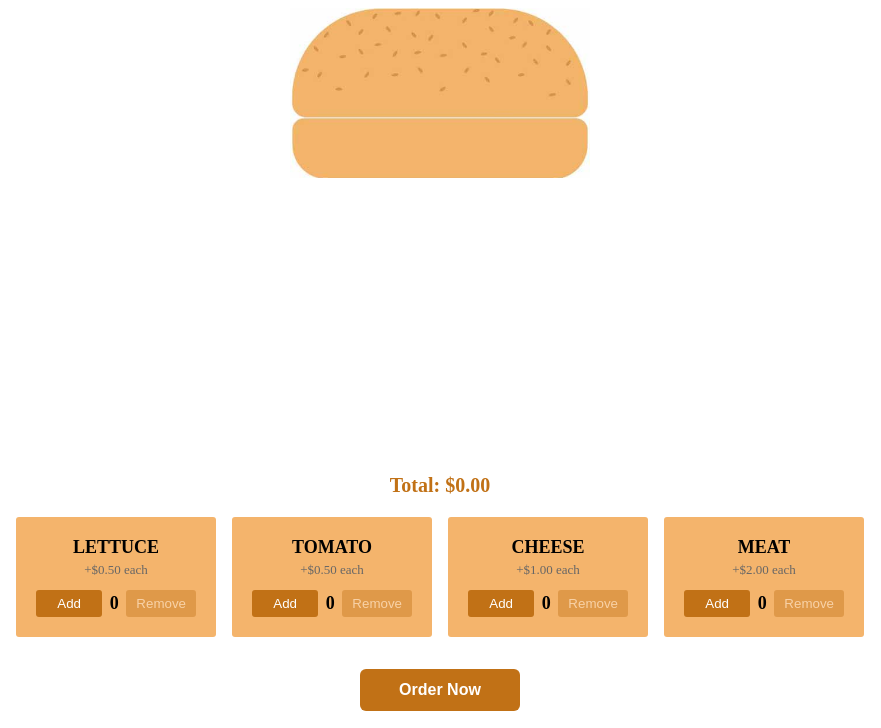
Burger › removes ingredient and decrements total
Click the button "Add" below "Lettuce" at (69, 604), box [36, 590, 102, 617]
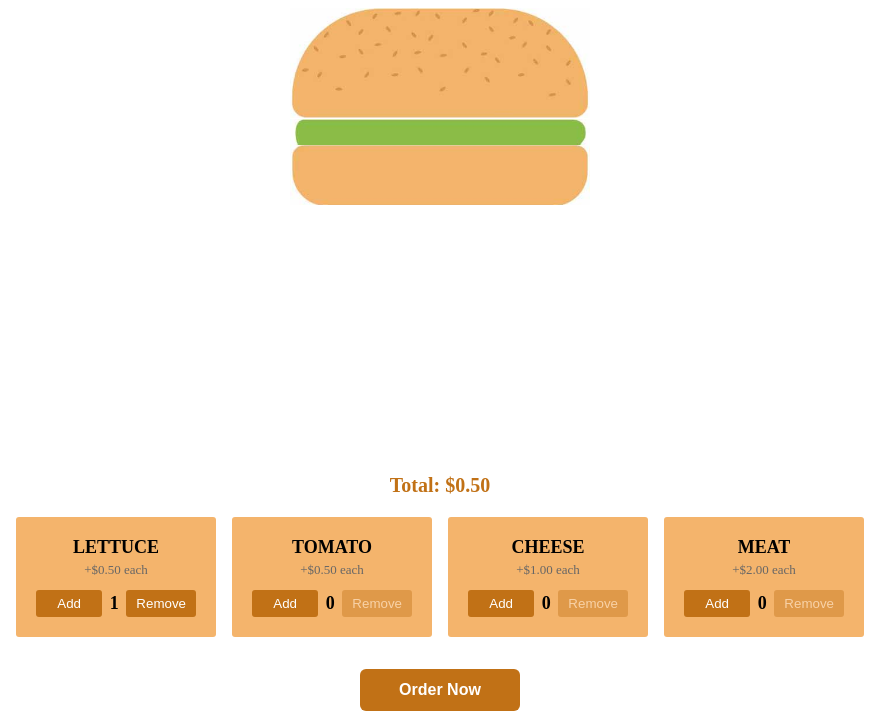
Click the button "Remove" below "Lettuce" at (161, 604), box [126, 590, 196, 617]
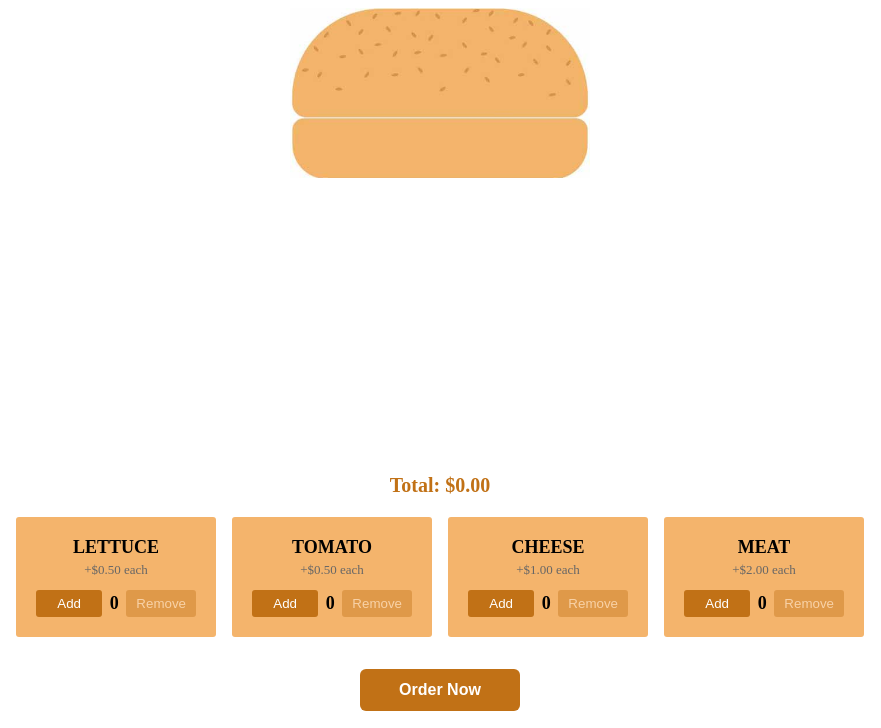
Expected: the text "Total: $0.00" is shown, [390, 474, 490, 496]
